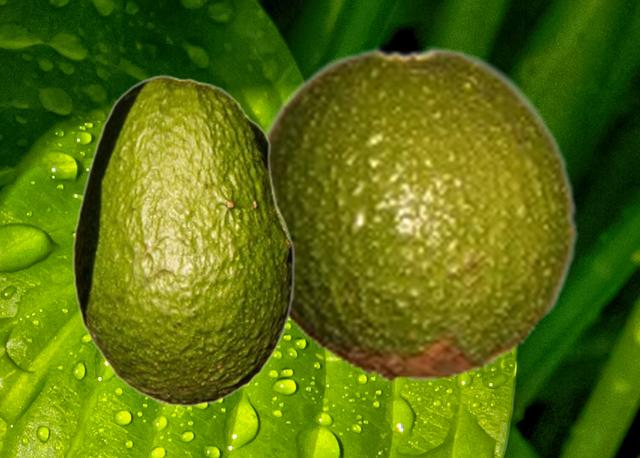avocado: (260, 46, 580, 382), (72, 74, 294, 406)
